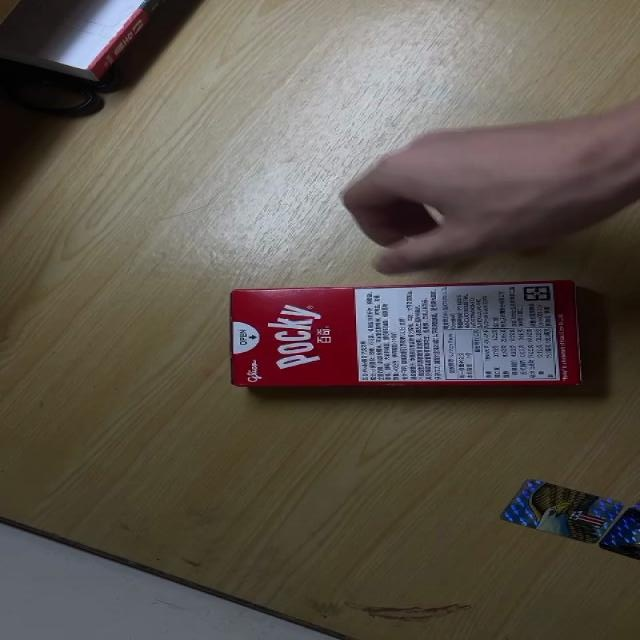Pocky: (227, 281, 584, 388)
